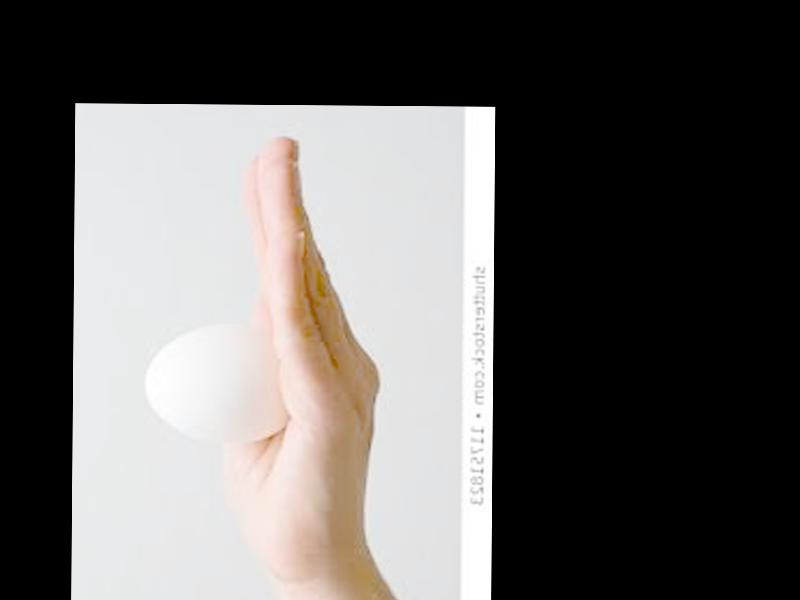Eggs: (145, 323, 290, 437)
